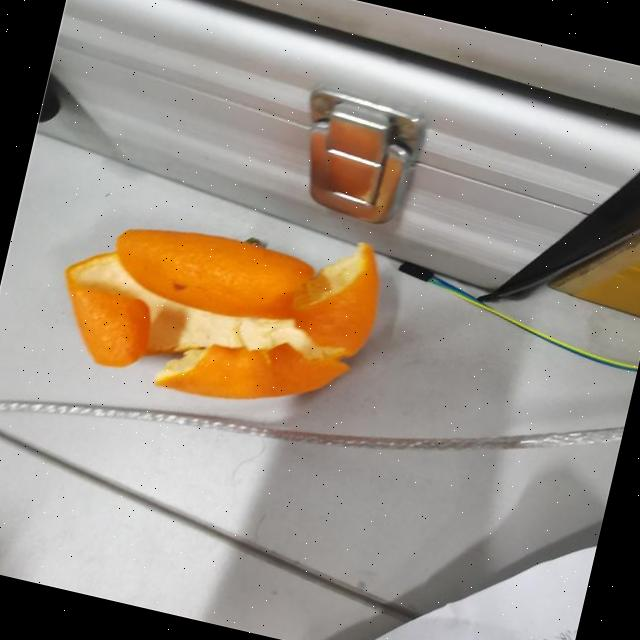orange-peel: (42, 176, 392, 432)
